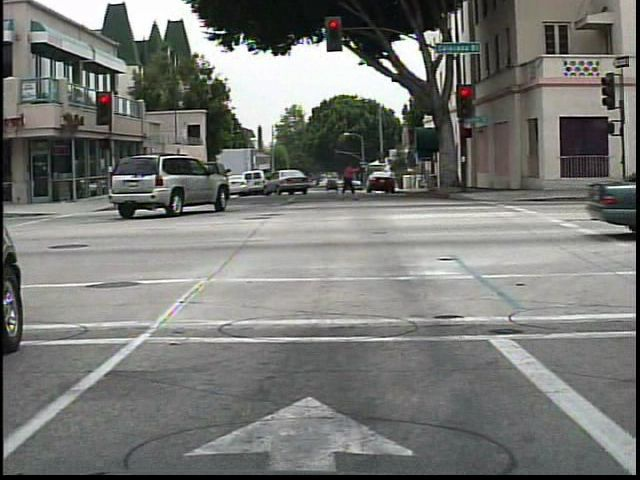person: (334, 156, 363, 202)
